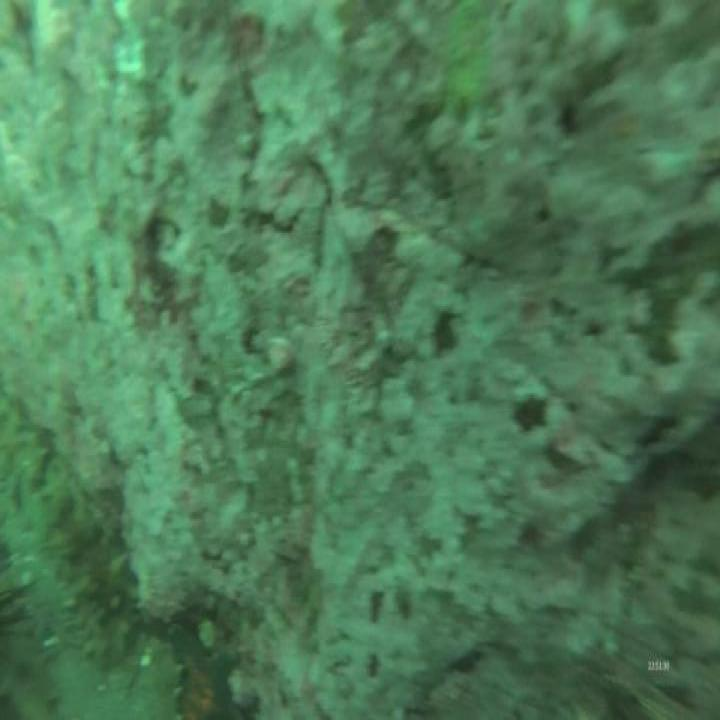starfish: (172, 636, 241, 718)
